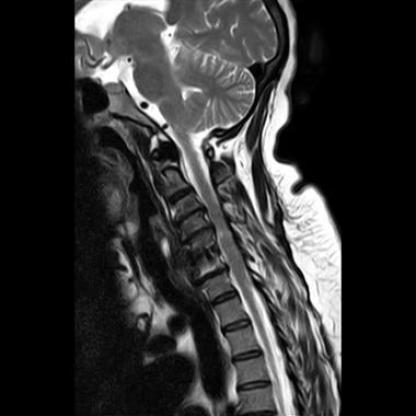Disc Bulgerotation: (191, 270, 230, 283), (171, 211, 207, 223)
Osteophytesrotation: (192, 270, 231, 283), (177, 229, 216, 241), (171, 211, 207, 223)
